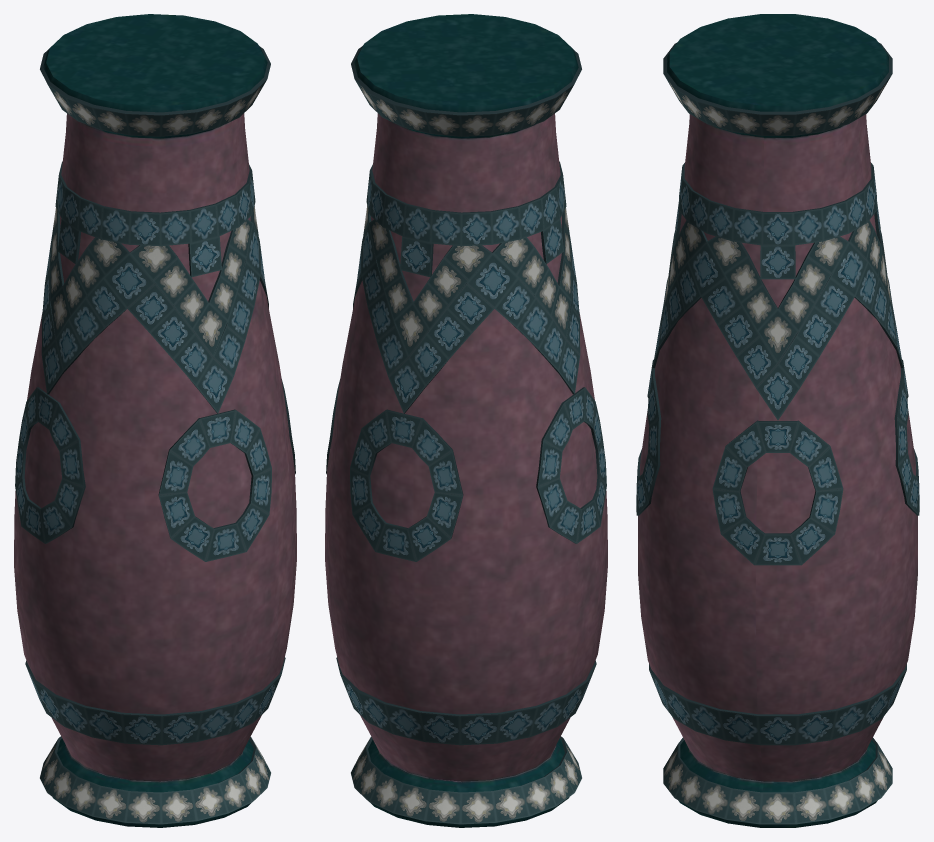
Rendered from CA_045_mosaic_column.glb.
3 renders of one model, left to right at view 1: azimuth 30°, elevation 25°; view 2: azimuth 150°, elevation 25°; view 3: azimuth 270°, elevation 25°, orthographic.
Parts seen in each view (by area): view 1: column, lines; view 2: column, lines; view 3: column, lines.
Boxes of the visible parts, x1=… form: column: x1=14, y1=14, x2=296, y2=827; lines: x1=15, y1=40, x2=295, y2=824; column: x1=325, y1=14, x2=607, y2=827; lines: x1=326, y1=40, x2=606, y2=824; column: x1=638, y1=14, x2=917, y2=827; lines: x1=636, y1=43, x2=919, y2=824.
Size of the model in its own units: 0.934 by 2.63 by 0.934.
2 materials, 1 textured.
